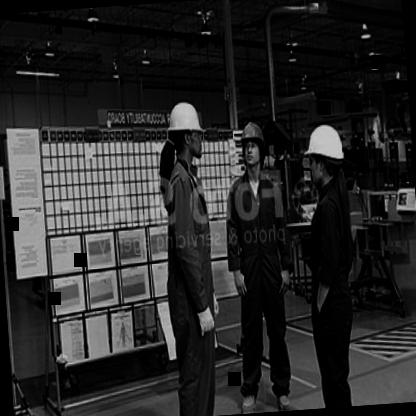helmet: (300, 116, 350, 196), (164, 94, 209, 169), (232, 116, 272, 178)
